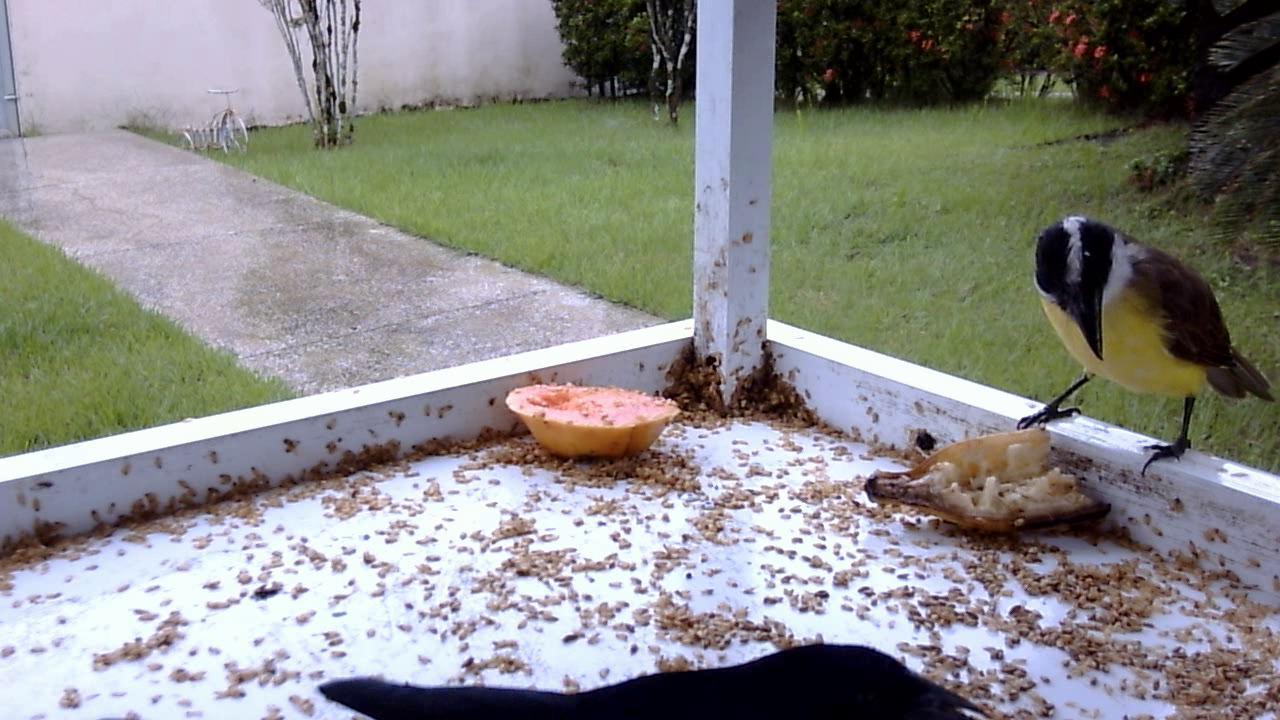bem_te_vi: (1004, 206, 1276, 491)
chupim: (340, 619, 1005, 716)
